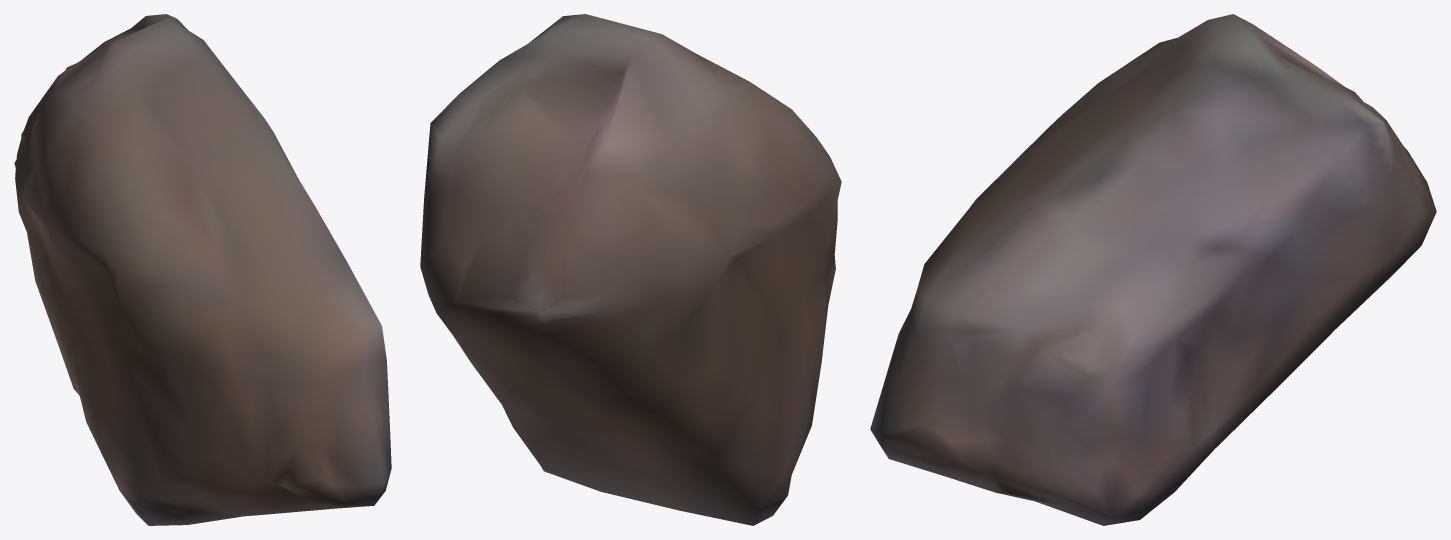
File: silver_ingot.glb
3 views of the same model, side by side, from view 1: azimuth 30°, elevation 25°; view 2: azimuth 150°, elevation 25°; view 3: azimuth 270°, elevation 25° (orthographic). The views are drawn at different scales.
Parts seen in each view (by area): view 1: model; view 2: model; view 3: model.
Part boxes in pixels (<box>): model: <box>14,14,391,525</box>; model: <box>420,14,841,525</box>; model: <box>870,14,1436,525</box>.
Bounding box in the file's own units: 0.206 × 0.3598 × 0.4023.
1 material, 1 textured.
